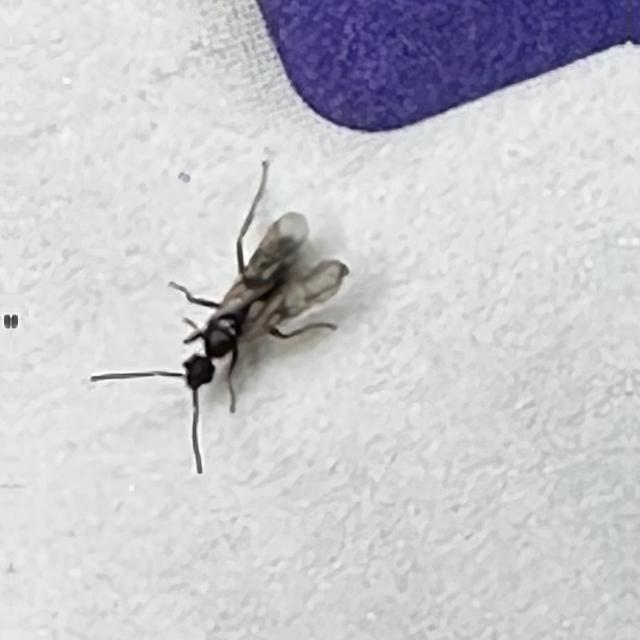Tapinoma: (119, 172, 363, 452)
